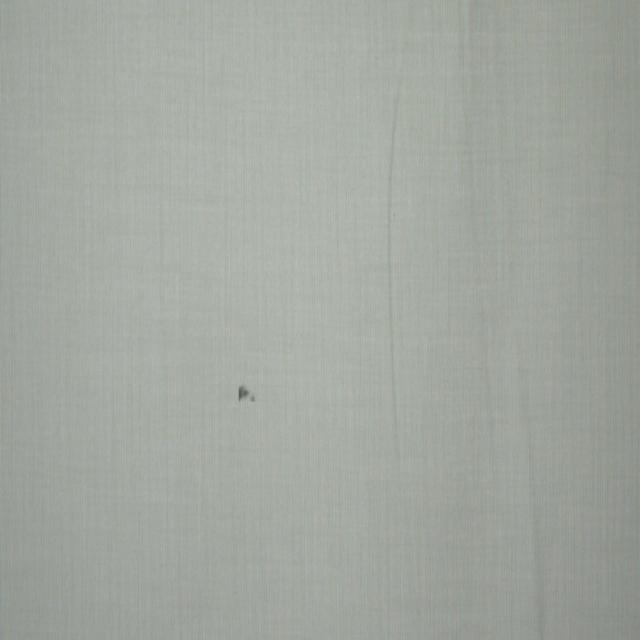dirty: (238, 386, 257, 401)
